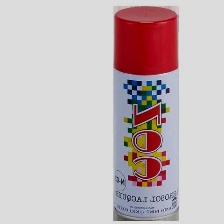aerosol_cans: (110, 4, 182, 222)
